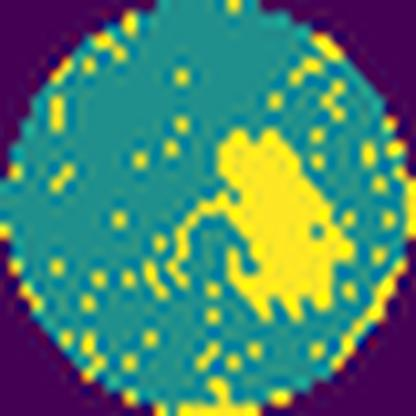Loc: (163, 126, 360, 322)
